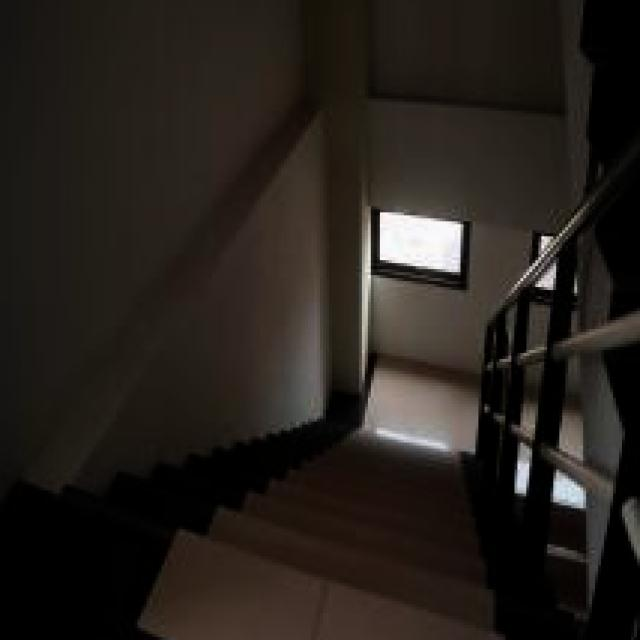downstair: (159, 458, 491, 640)
